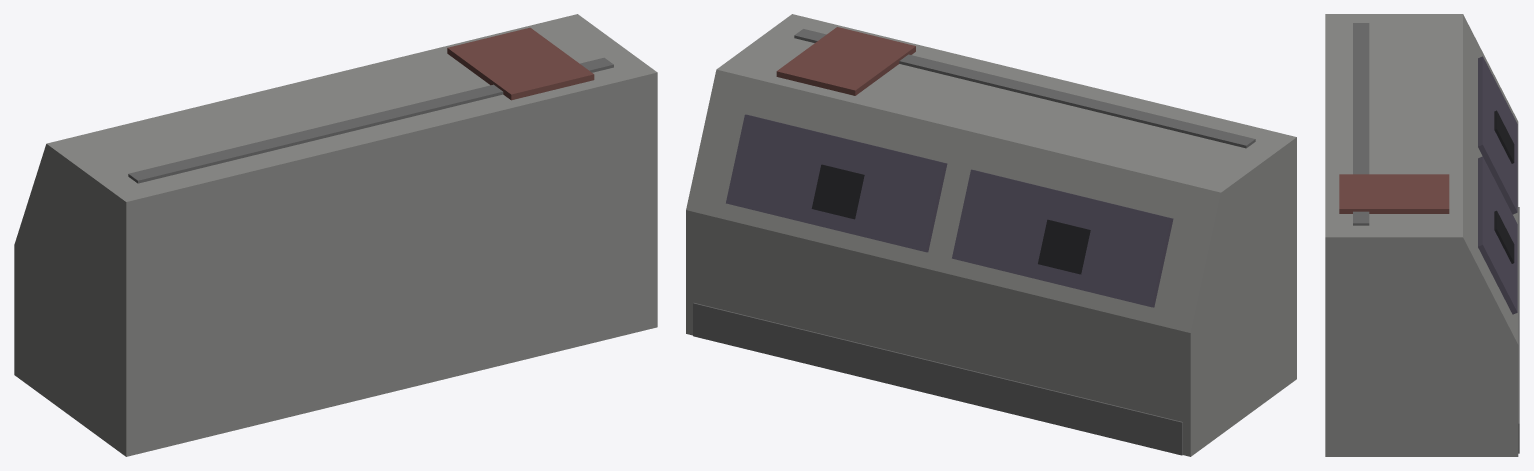
File: oc_destroyed_console.obj
3 views of the same model, side by side, from view 1: azimuth 30°, elevation 25°; view 2: azimuth 150°, elevation 25°; view 3: azimuth 270°, elevation 25° (orthographic). The views are drawn at different scales.
Parts seen in each view (by area): view 1: oc_destroyed_console_0, oc_destroyed_console_1, oc_destroyed_console_8, oc_destroyed_console_7; view 2: oc_destroyed_console_1, oc_destroyed_console_0, oc_destroyed_console_3, oc_destroyed_console_5, oc_destroyed_console_2, oc_destroyed_console_8, oc_destroyed_console_7, oc_destroyed_console_4, oc_destroyed_console_6; view 3: oc_destroyed_console_0, oc_destroyed_console_1, oc_destroyed_console_8, oc_destroyed_console_5, oc_destroyed_console_3, oc_destroyed_console_7, oc_destroyed_console_6, oc_destroyed_console_4, oc_destroyed_console_2.
Part boxes in pixels (left/top/right/bottom): oc_destroyed_console_0: left=46, top=14, right=657, bottom=456; oc_destroyed_console_1: left=14, top=144, right=46, bottom=397; oc_destroyed_console_8: left=447, top=27, right=594, bottom=100; oc_destroyed_console_7: left=128, top=57, right=613, bottom=183; oc_destroyed_console_1: left=686, top=69, right=1220, bottom=456; oc_destroyed_console_0: left=716, top=14, right=1296, bottom=434; oc_destroyed_console_3: left=952, top=169, right=1173, bottom=307; oc_destroyed_console_5: left=726, top=114, right=947, bottom=252; oc_destroyed_console_2: left=693, top=303, right=1182, bottom=455; oc_destroyed_console_8: left=776, top=27, right=915, bottom=95; oc_destroyed_console_7: left=794, top=29, right=1255, bottom=148; oc_destroyed_console_4: left=1038, top=219, right=1090, bottom=274; oc_destroyed_console_6: left=811, top=164, right=864, bottom=219; oc_destroyed_console_0: left=1325, top=14, right=1462, bottom=456; oc_destroyed_console_1: left=1463, top=14, right=1518, bottom=456; oc_destroyed_console_8: left=1339, top=174, right=1449, bottom=213; oc_destroyed_console_5: left=1478, top=156, right=1517, bottom=314; oc_destroyed_console_3: left=1478, top=56, right=1517, bottom=214; oc_destroyed_console_7: left=1353, top=23, right=1369, bottom=225; oc_destroyed_console_6: left=1494, top=210, right=1514, bottom=263; oc_destroyed_console_4: left=1494, top=110, right=1514, bottom=163; oc_destroyed_console_2: left=1518, top=207, right=1519, bottom=453.
Bounding box in the file's own units: 1.92 × 0.9 × 0.705.
